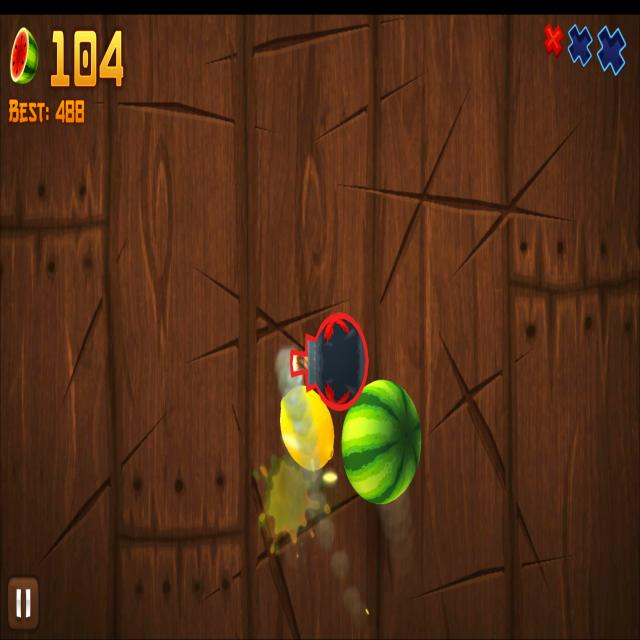bomb: (289, 310, 370, 412)
fruit: (340, 377, 422, 507), (279, 386, 335, 470)
